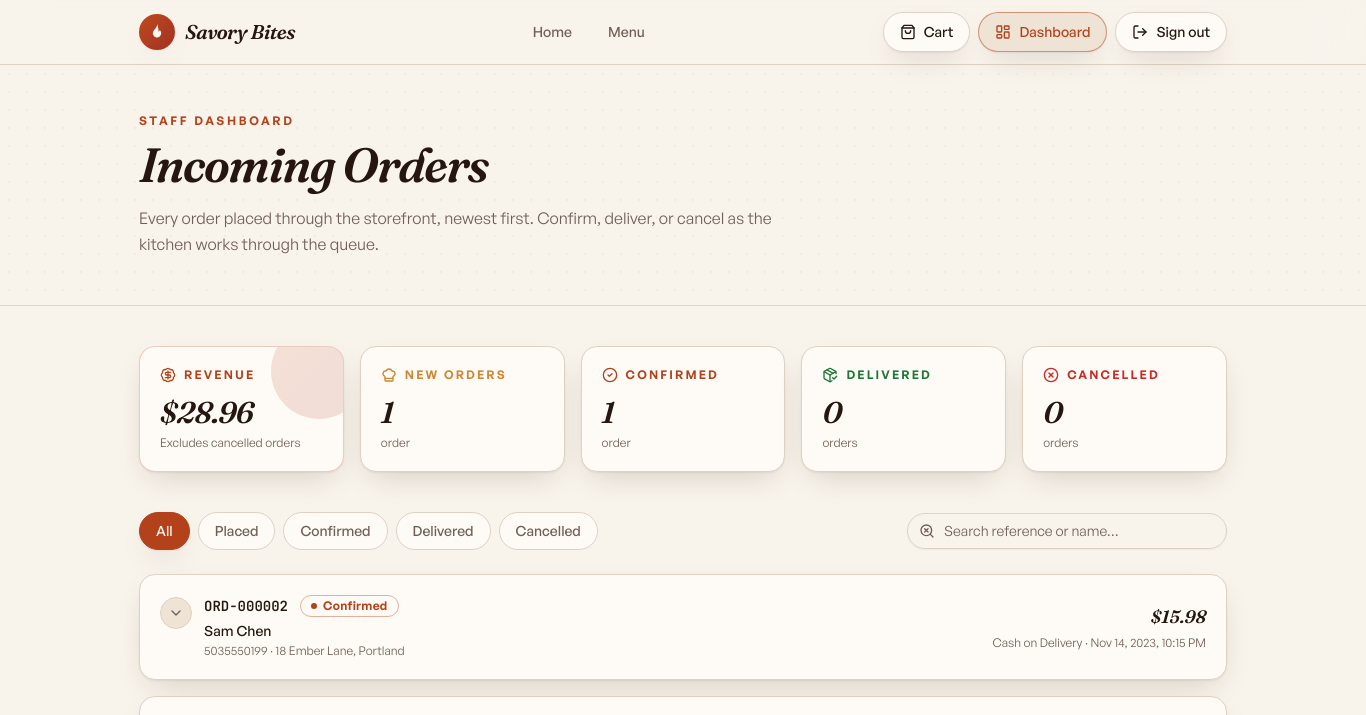
admin dashboard › shows an empty state with a clear-filters action when nothing matches
The image size is (1366, 715).
Type "no-such-customer" into the search field with test id "admin.search_input".
click(1067, 531); type("no-such-customer")  # box left=907, top=513, right=1227, bottom=549
(page scrolled)
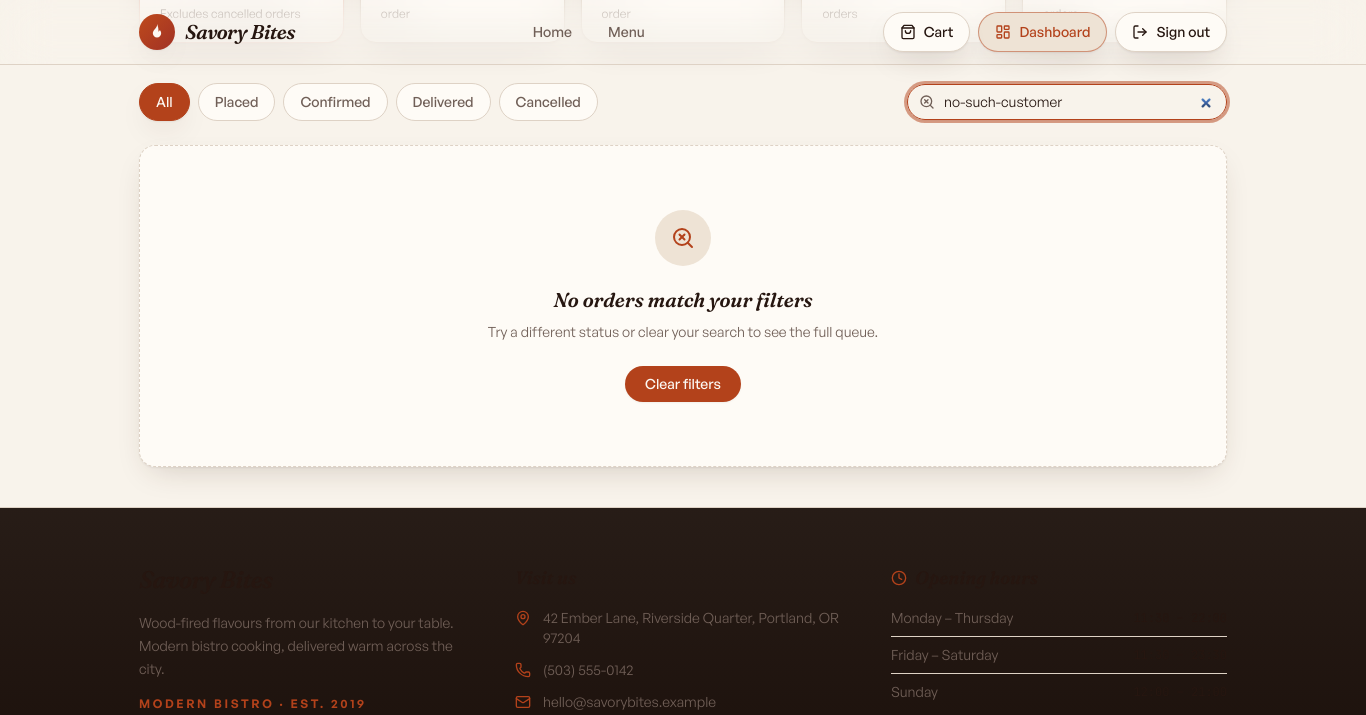
Result: the element with test id "admin.empty_state" is shown at left=139, top=145, right=1227, bottom=467
Click the button with test id "admin.clear_filters_button".
click(683, 384)  # box left=625, top=366, right=741, bottom=402
(page scrolled)
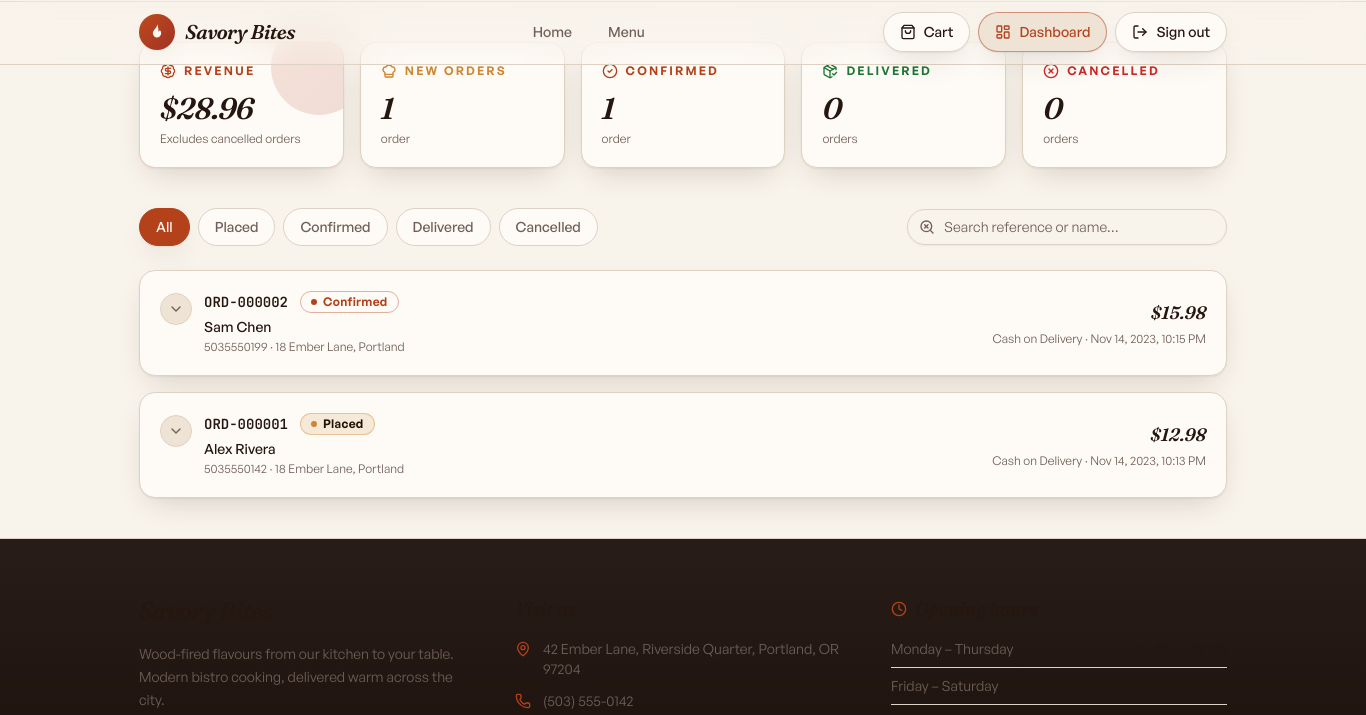
Result: the list with test id "admin.order.list" is shown at left=139, top=270, right=1227, bottom=498
